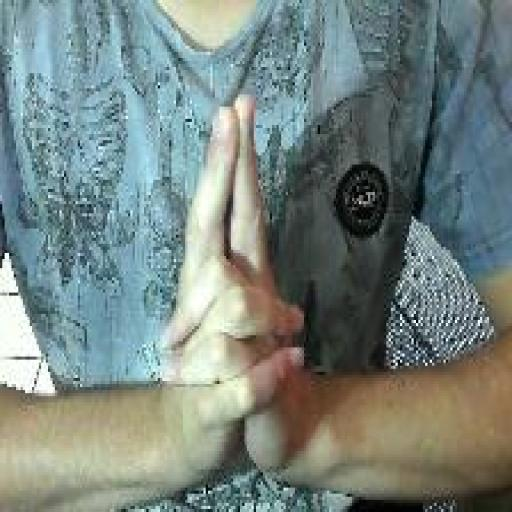Tora -tiger-: (155, 85, 311, 497)
